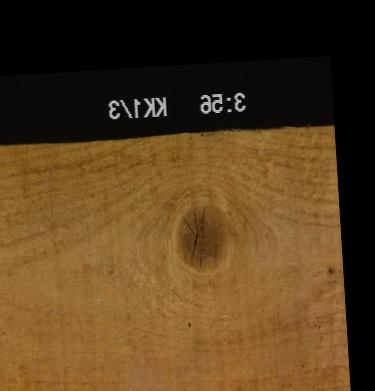small_knot: (325, 263, 334, 274)
sound_knot: (174, 200, 231, 271)
